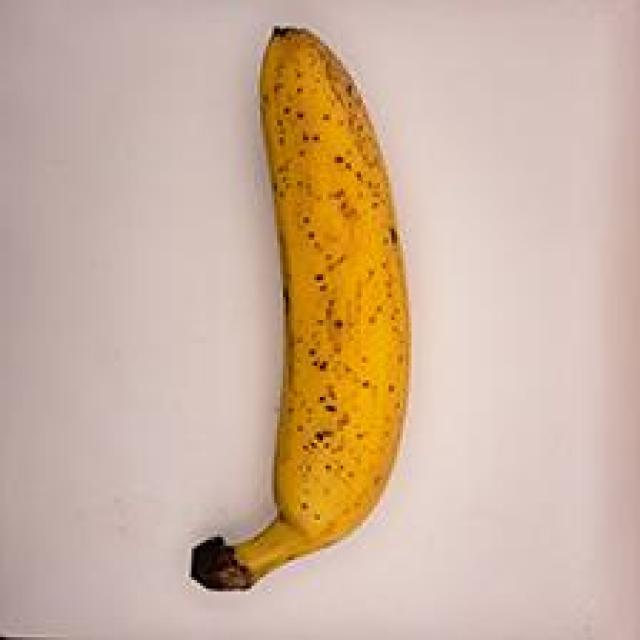Overripe: (159, 2, 445, 599)
